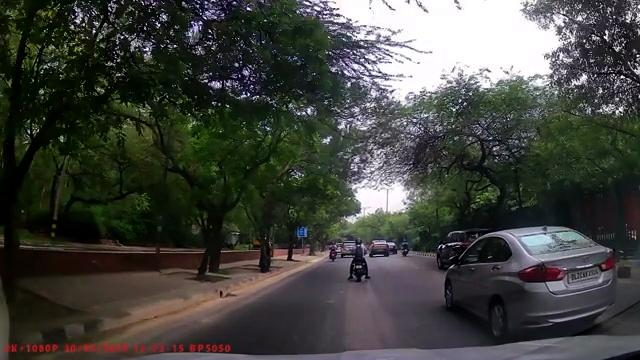motorcycle_with_helmet: (347, 238, 372, 283)
